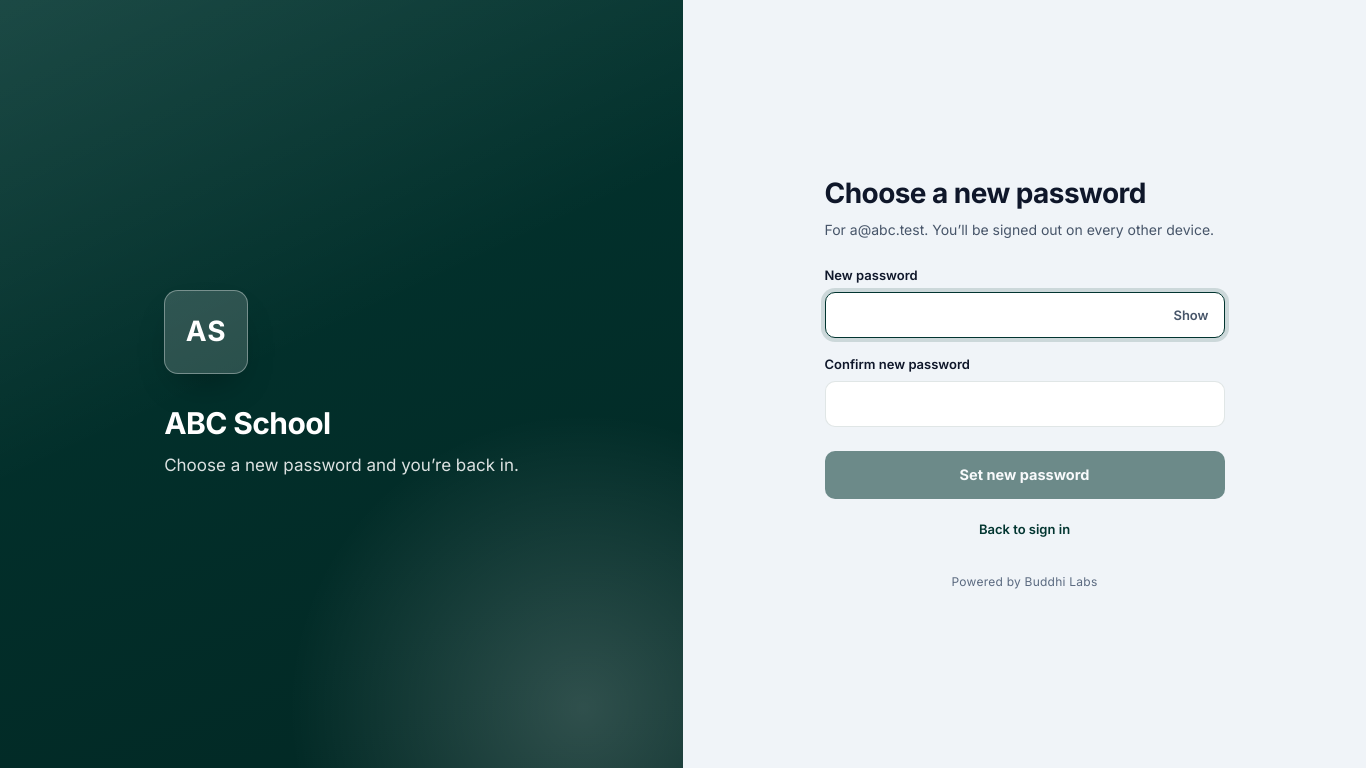
Test: reset password › shows the password rules in words when one is refused
The width and height of the screenshot is (1366, 768).
Type "123" into the password field labelled "New password".
click(1024, 315); type("123")  # box [824, 292, 1224, 338]
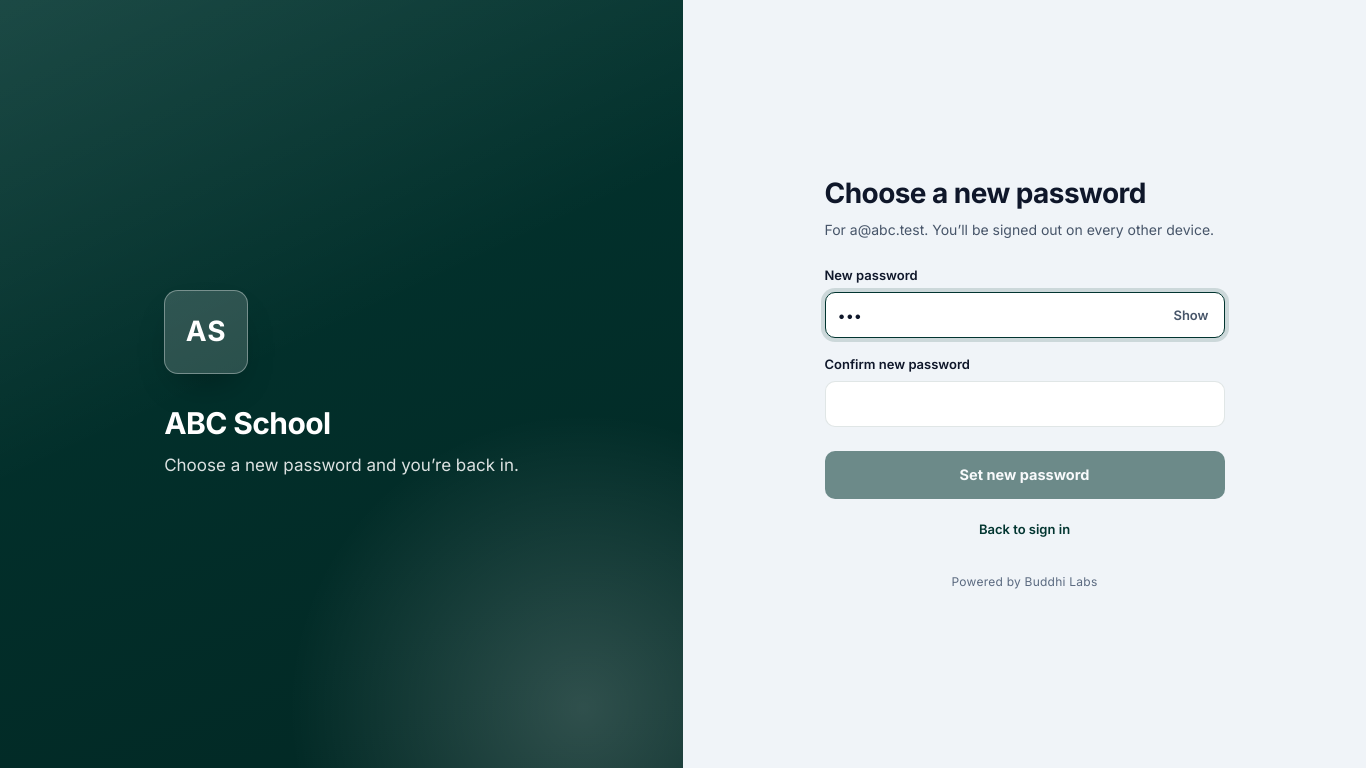
Type "123" into the password field labelled "Confirm new password".
click(1024, 404); type("123")  # box [824, 381, 1224, 427]
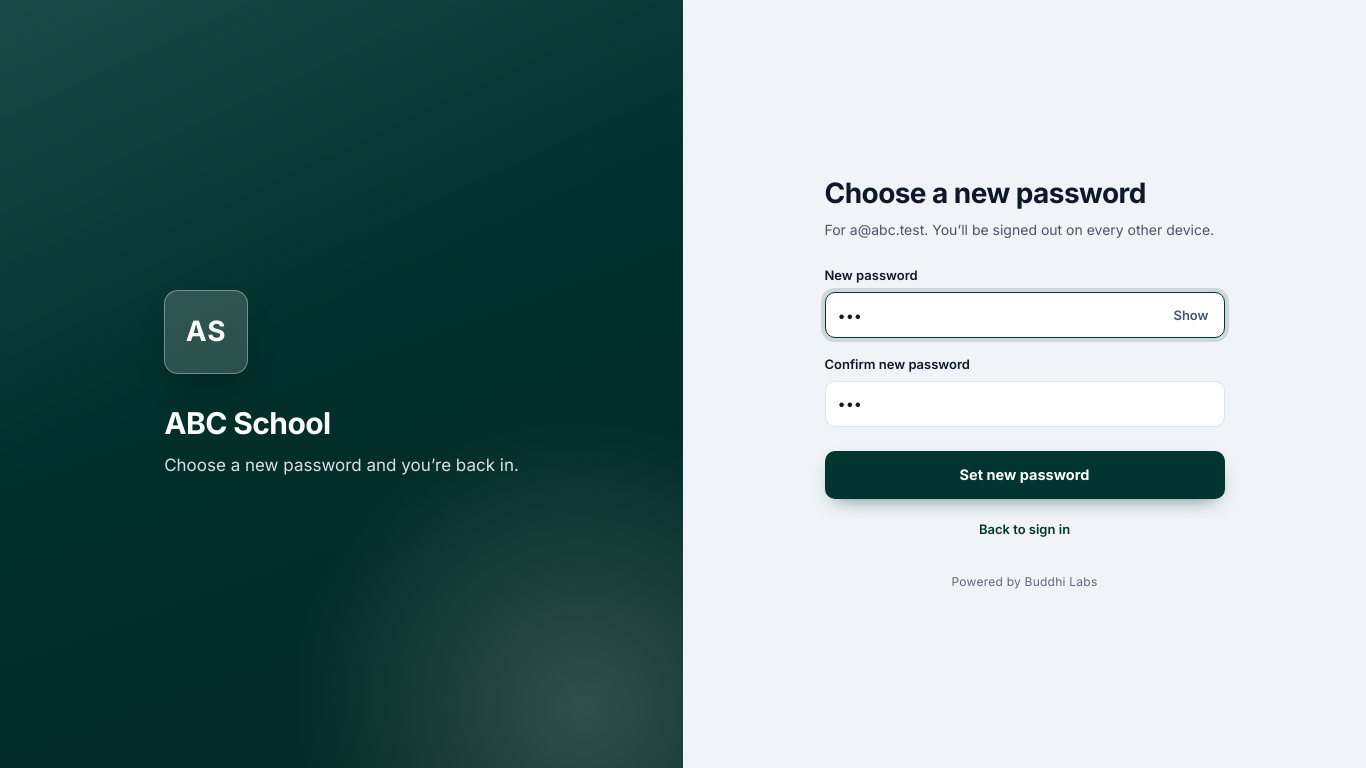
Click the button "Set new password".
click(1024, 475)  # box [824, 451, 1224, 499]
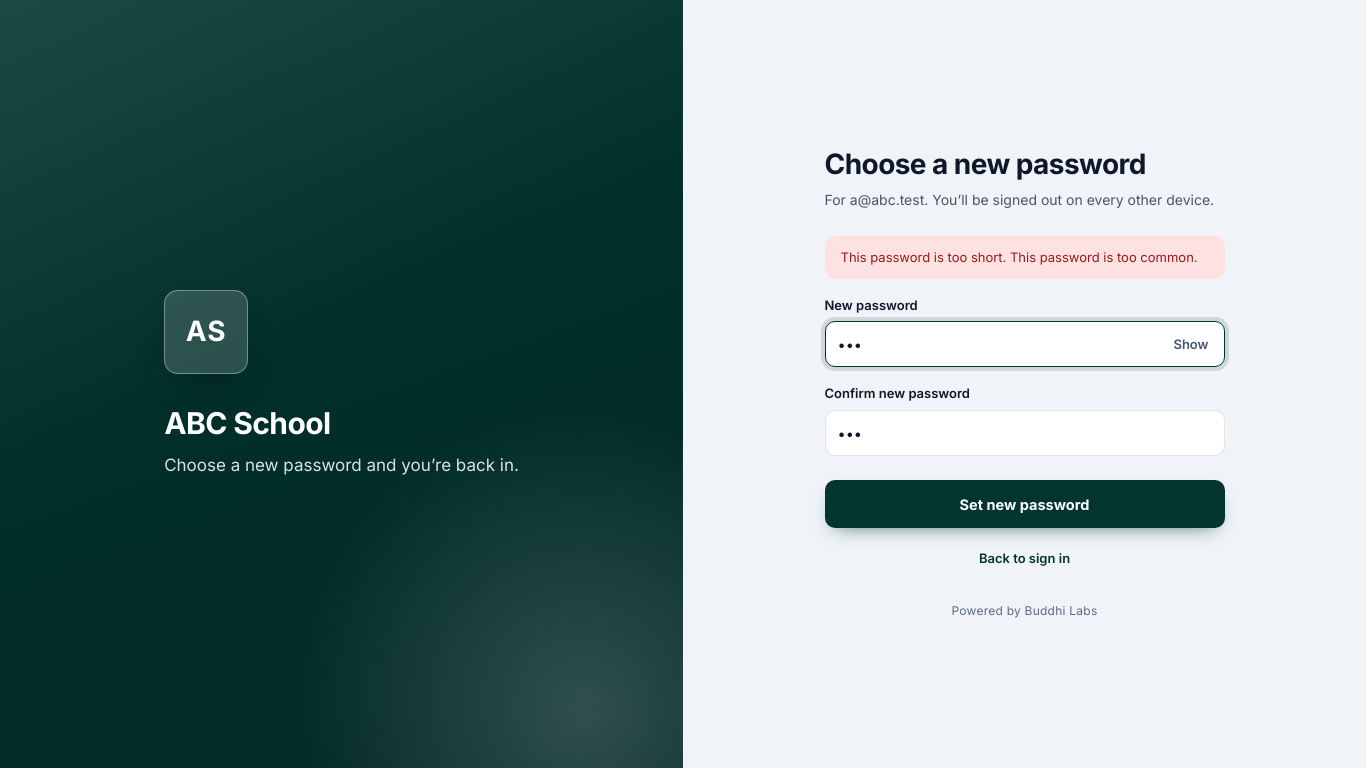
Expected: the message shows "too short. This password is too common.", [840, 249, 1198, 265]
